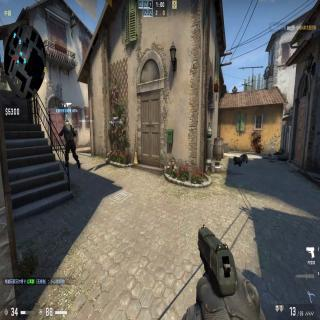CT-Body: (58, 118, 81, 169)
CT-Head: (64, 118, 69, 125)
